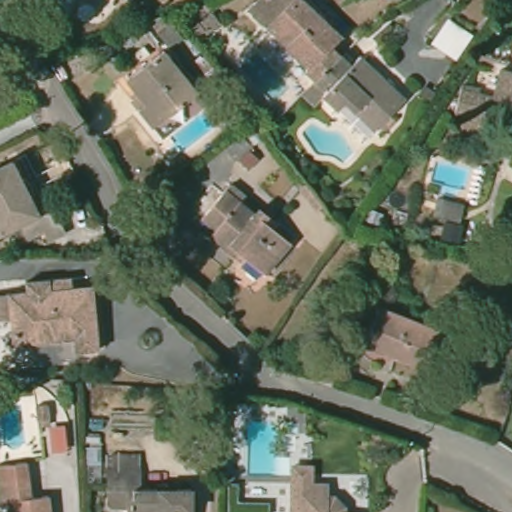pool: (242, 408, 299, 483), (298, 118, 358, 164), (241, 53, 288, 105), (170, 109, 225, 148), (1, 392, 34, 454), (429, 159, 479, 195)
